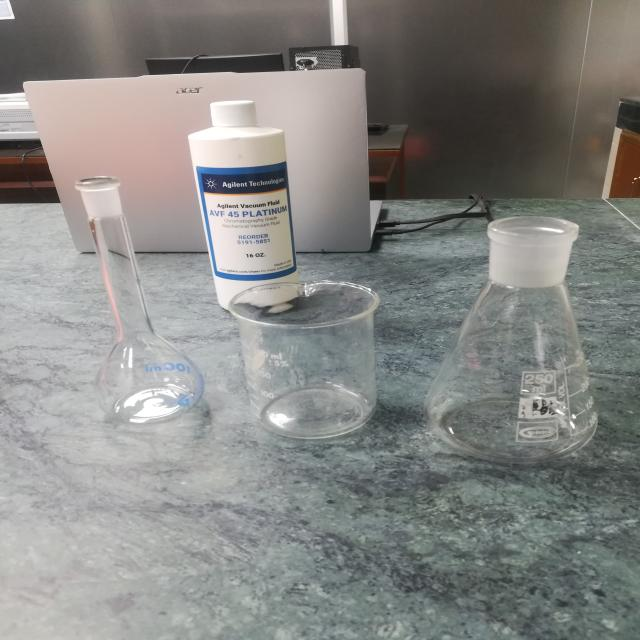Beaker: (224, 267, 408, 453)
Conical_Flask: (420, 197, 614, 479)
Volumetric_Flask: (42, 158, 212, 440)
